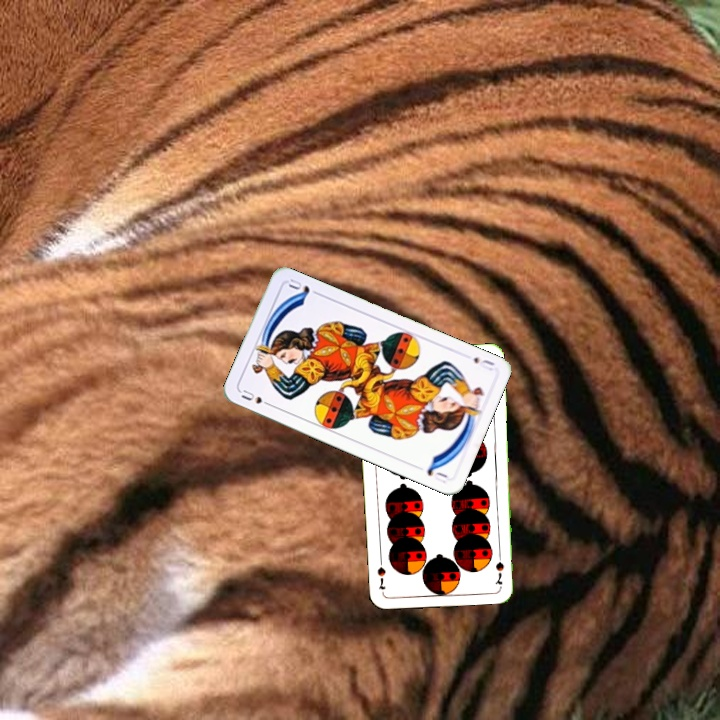S7: (492, 546, 506, 587)
SU: (237, 385, 275, 410), (469, 353, 497, 373)
